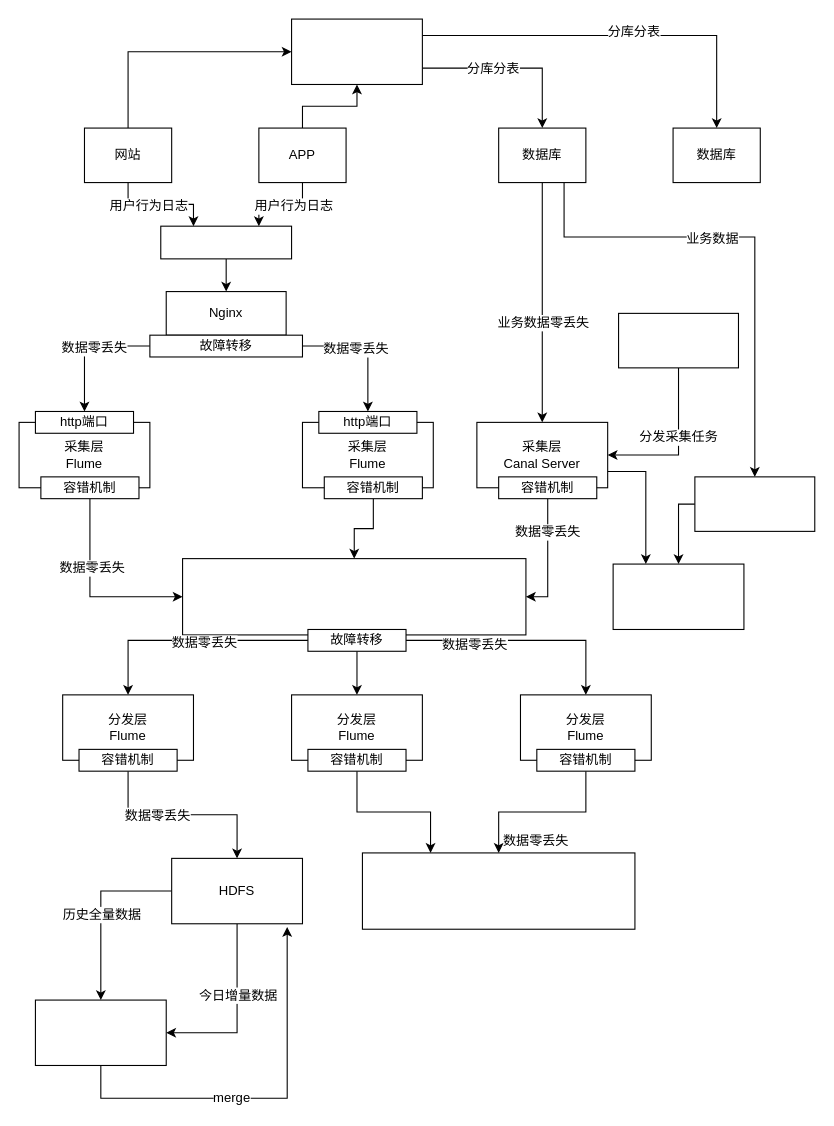
This 834x1126 diagram has some shape labels left out. The box of each missing label's shape, as (x1, y1, x2, y2) in pixels:
Canal Manager: (617, 312, 738, 368)
Java系统: (290, 18, 422, 84)
Kafka: (361, 852, 635, 929)
Kafka 中间缓冲层: (181, 558, 526, 635)
LVS: (160, 225, 292, 259)
Spark: (34, 999, 166, 1065)
Standby Canal Server: (694, 476, 815, 531)
zookeeper: (612, 563, 744, 629)
